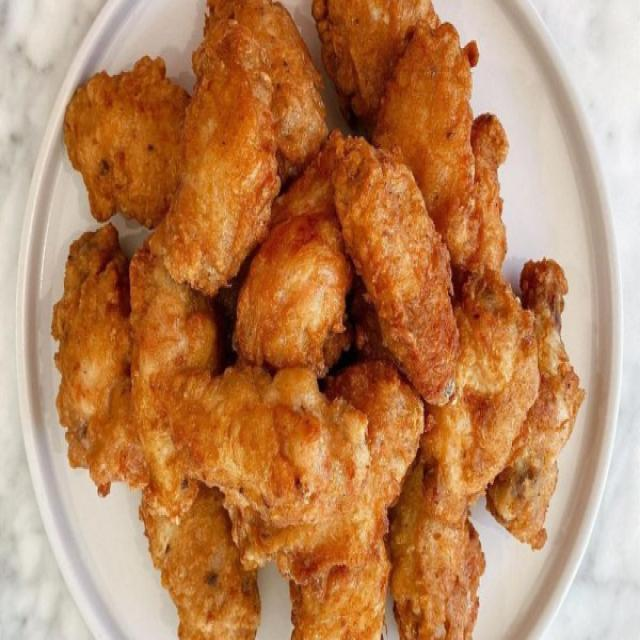ayam_goreng: (73, 8, 552, 638)
